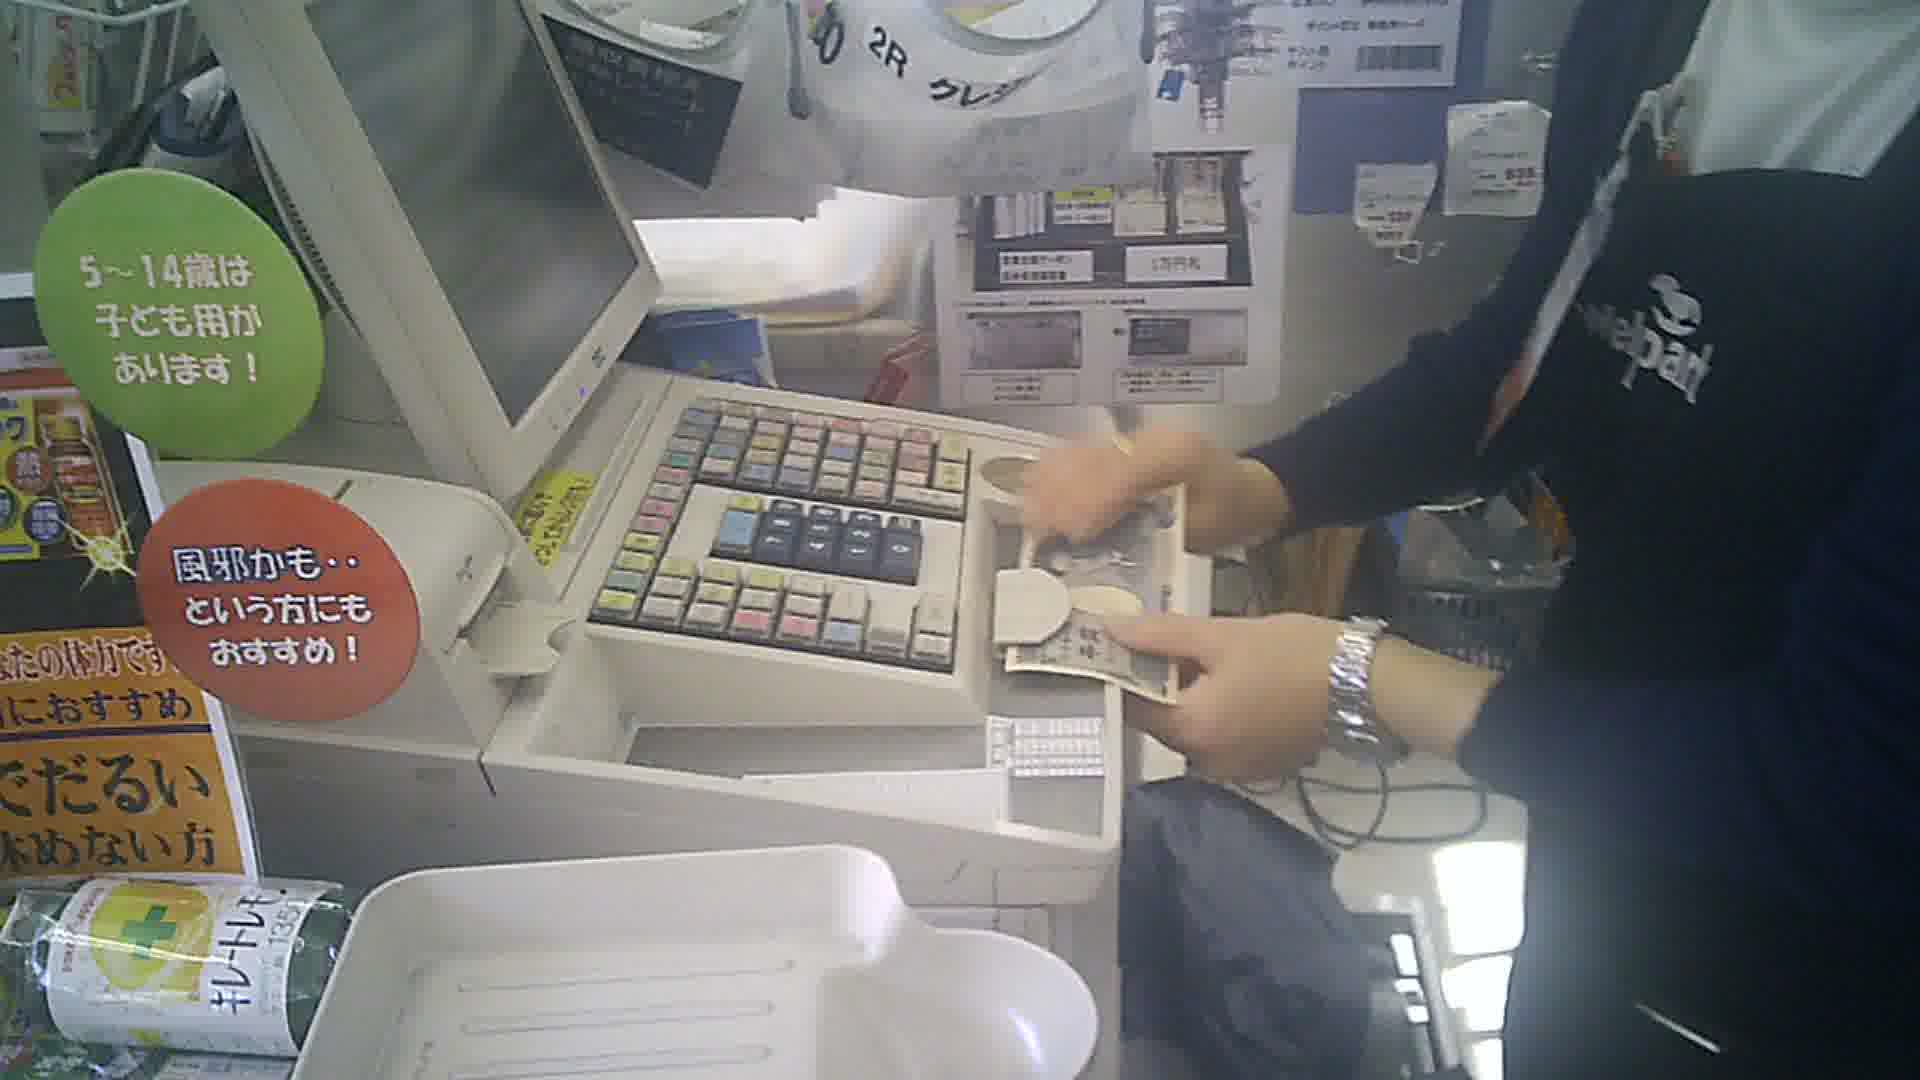1,000 Yen: (1014, 451, 1203, 717)
